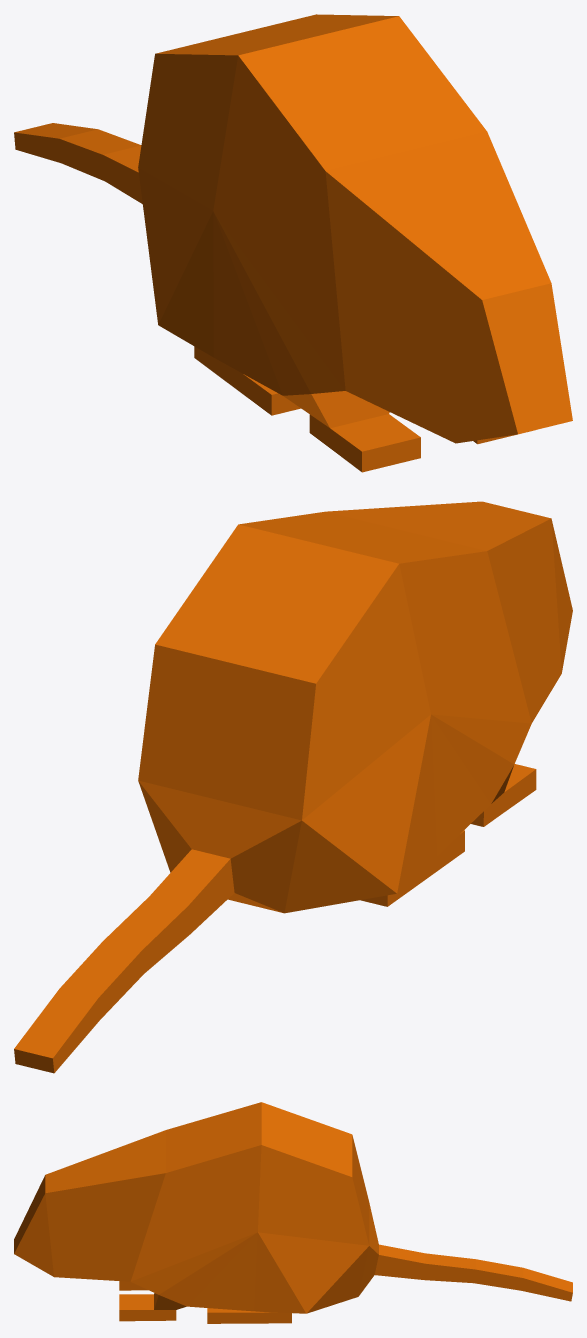
The model's file is GumpRat.glb.
3 views of the same model, one above another, from view 1: azimuth 30°, elevation 25°; view 2: azimuth 150°, elevation 25°; view 3: azimuth 270°, elevation 25° (orthographic). The views are drawn at different scales.
Parts seen in each view (by area): view 1: Cube.001; view 2: Cube.001; view 3: Cube.001.
Part boxes in pixels (<box>): Cube.001: <box>14,14,572,472</box>; Cube.001: <box>14,501,572,1073</box>; Cube.001: <box>14,1102,572,1323</box>.
Bounding box in the file's own units: 1.13 × 1.44 × 4.19.
